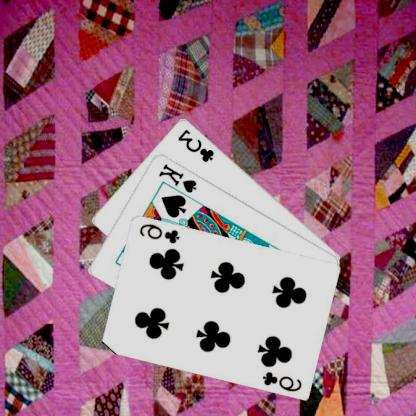3C: (177, 126, 217, 163)
6C: (138, 220, 183, 245), (261, 368, 305, 392)
KS: (157, 160, 200, 194)
